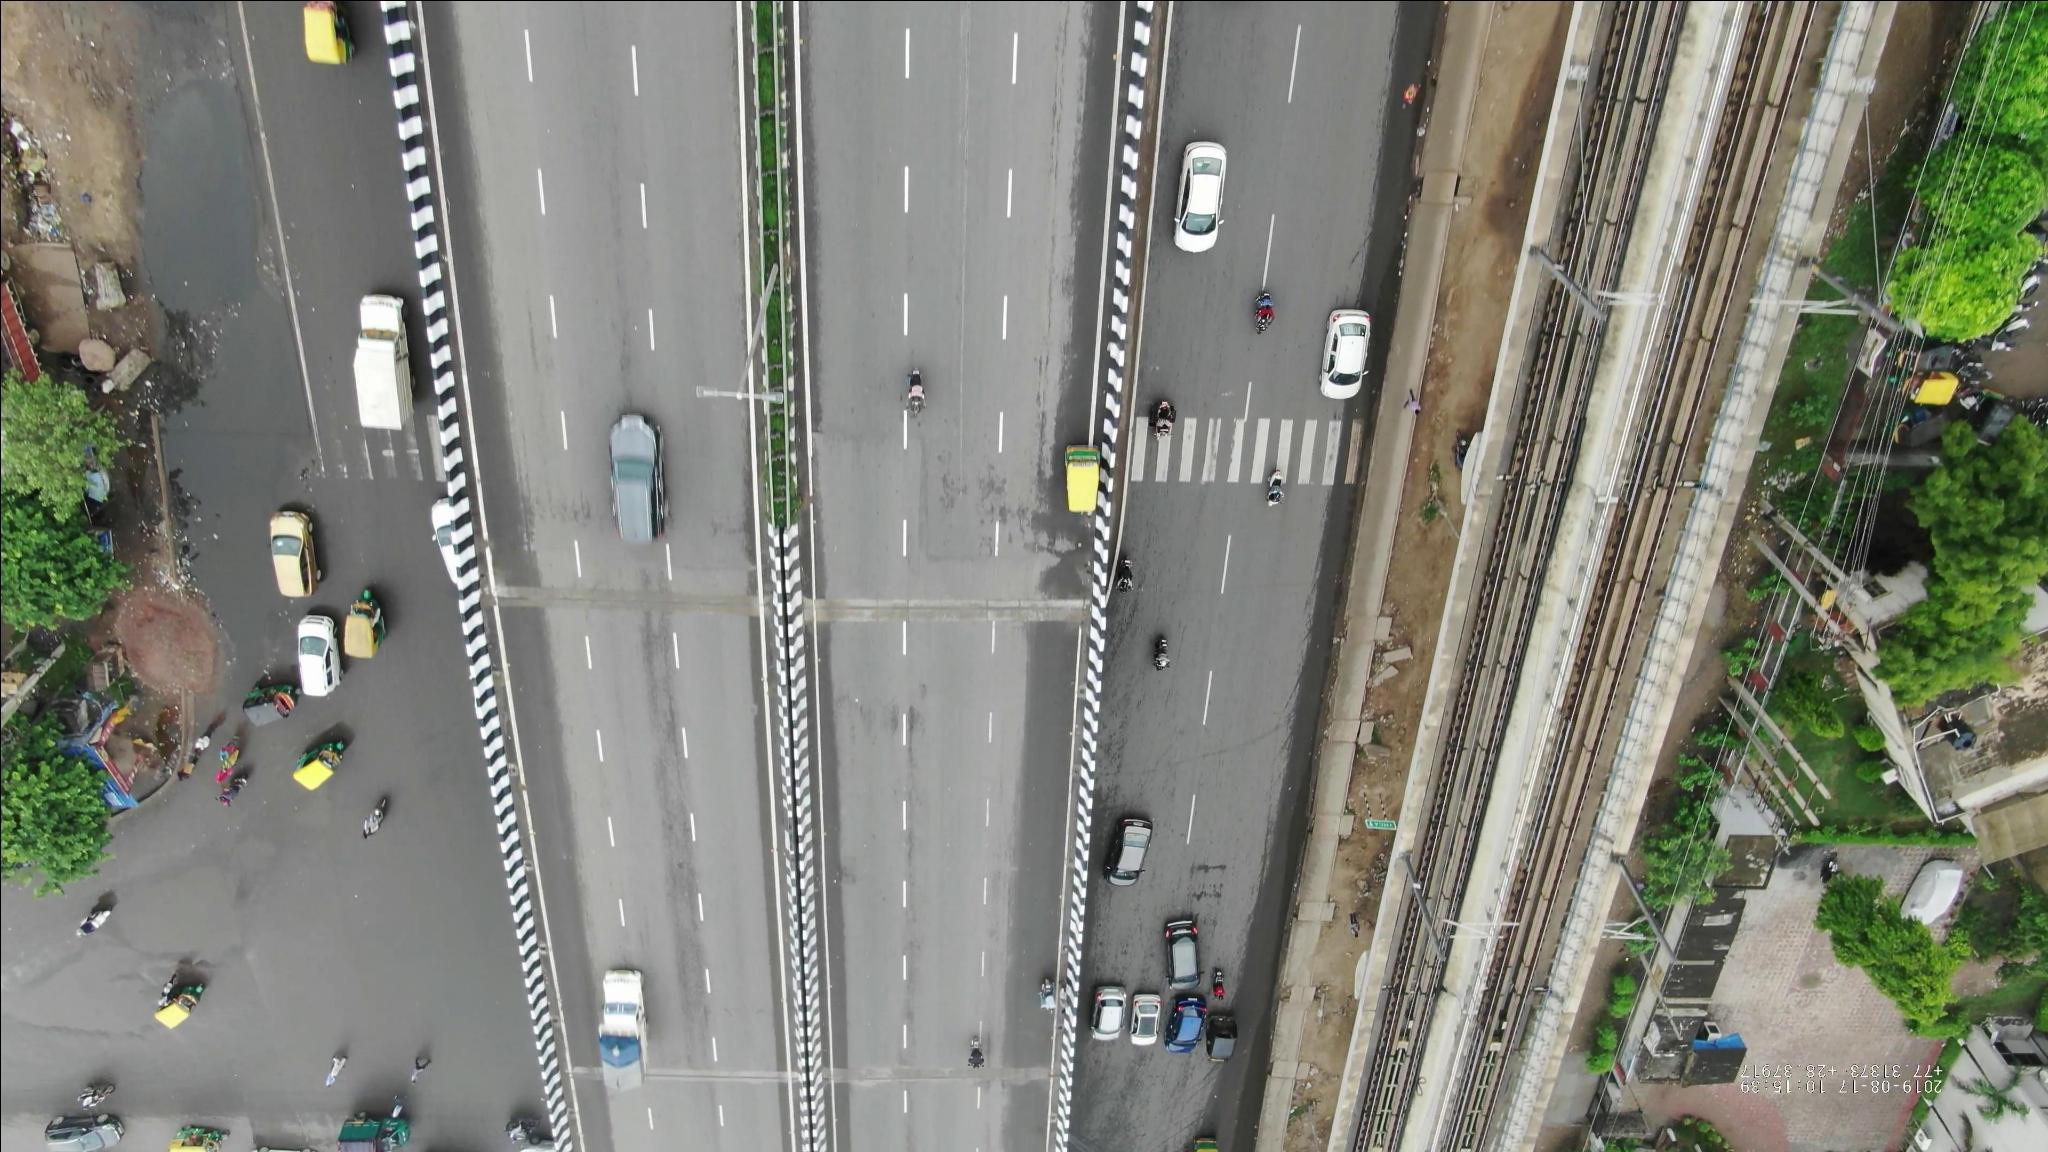Ravelling: (644, 622, 706, 909), (665, 916, 726, 1068), (899, 700, 928, 909)
Waterlogging: (145, 409, 270, 617), (136, 194, 281, 364)
